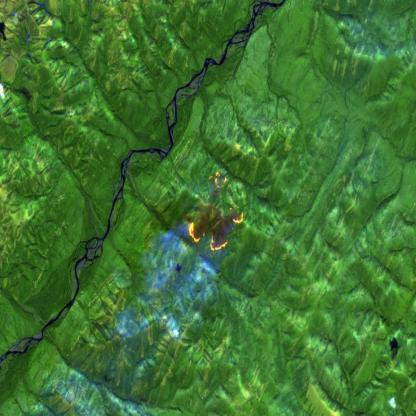fire: (184, 168, 244, 254)
